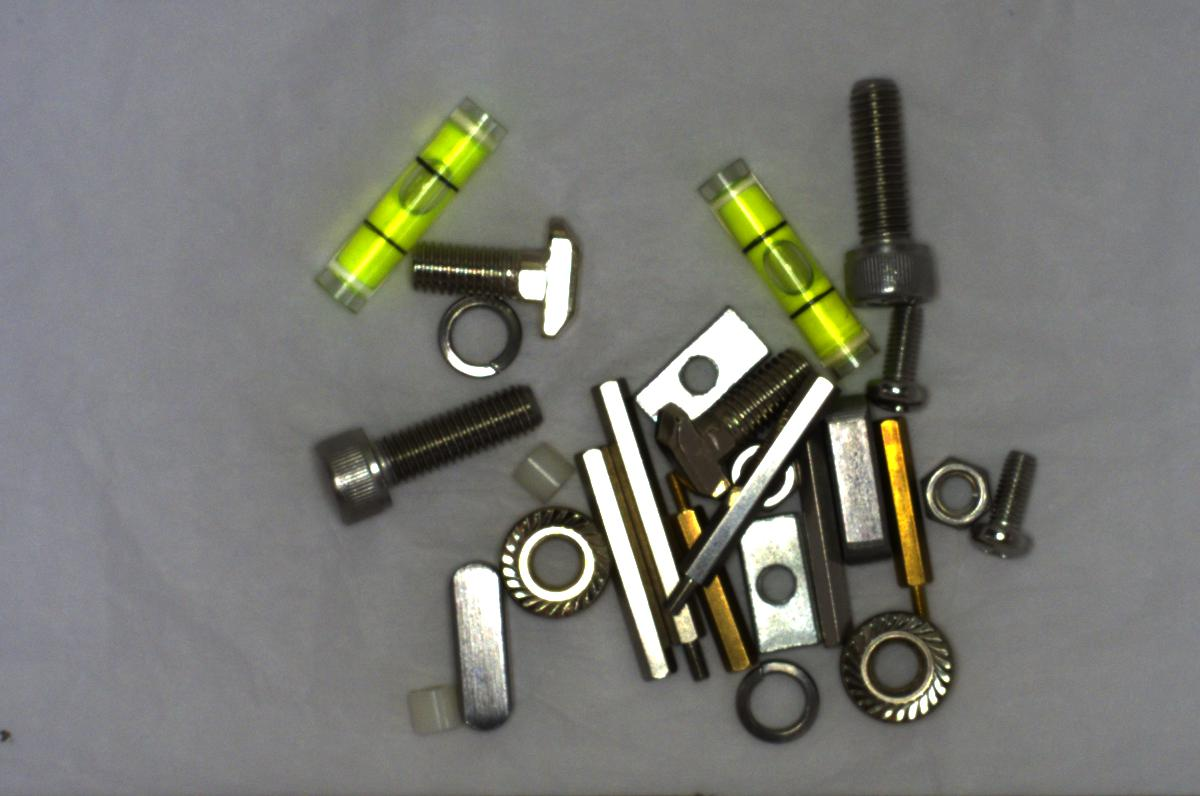Double hexagonal column: (574, 441, 683, 691)
Flange nut: (834, 600, 962, 732), (489, 492, 612, 627)
Hexagon nut: (919, 440, 996, 532)
Hexagon pillar: (666, 463, 746, 672), (883, 412, 935, 610)
Hexagon screw: (307, 386, 551, 523), (828, 65, 953, 309)
Hexagonal steel column: (585, 364, 706, 689), (666, 380, 821, 615)
Horizontal bubble: (301, 95, 507, 321), (696, 150, 880, 380)
Keybar: (446, 555, 526, 733), (828, 408, 887, 567)
Plastic cushion pillar: (511, 432, 574, 509), (401, 672, 466, 741)
Rectangular nut: (628, 309, 774, 413), (733, 515, 817, 658)
Round head screw: (971, 441, 1052, 569), (865, 298, 942, 422)
Spring washer: (425, 287, 526, 381), (729, 656, 825, 751)
T-shaped screw: (396, 206, 596, 341), (658, 346, 806, 500)
